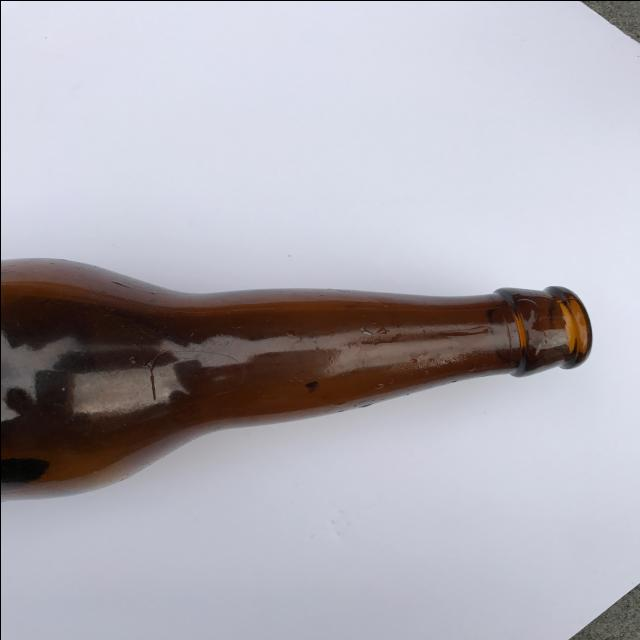glass: (0, 196, 606, 507)
